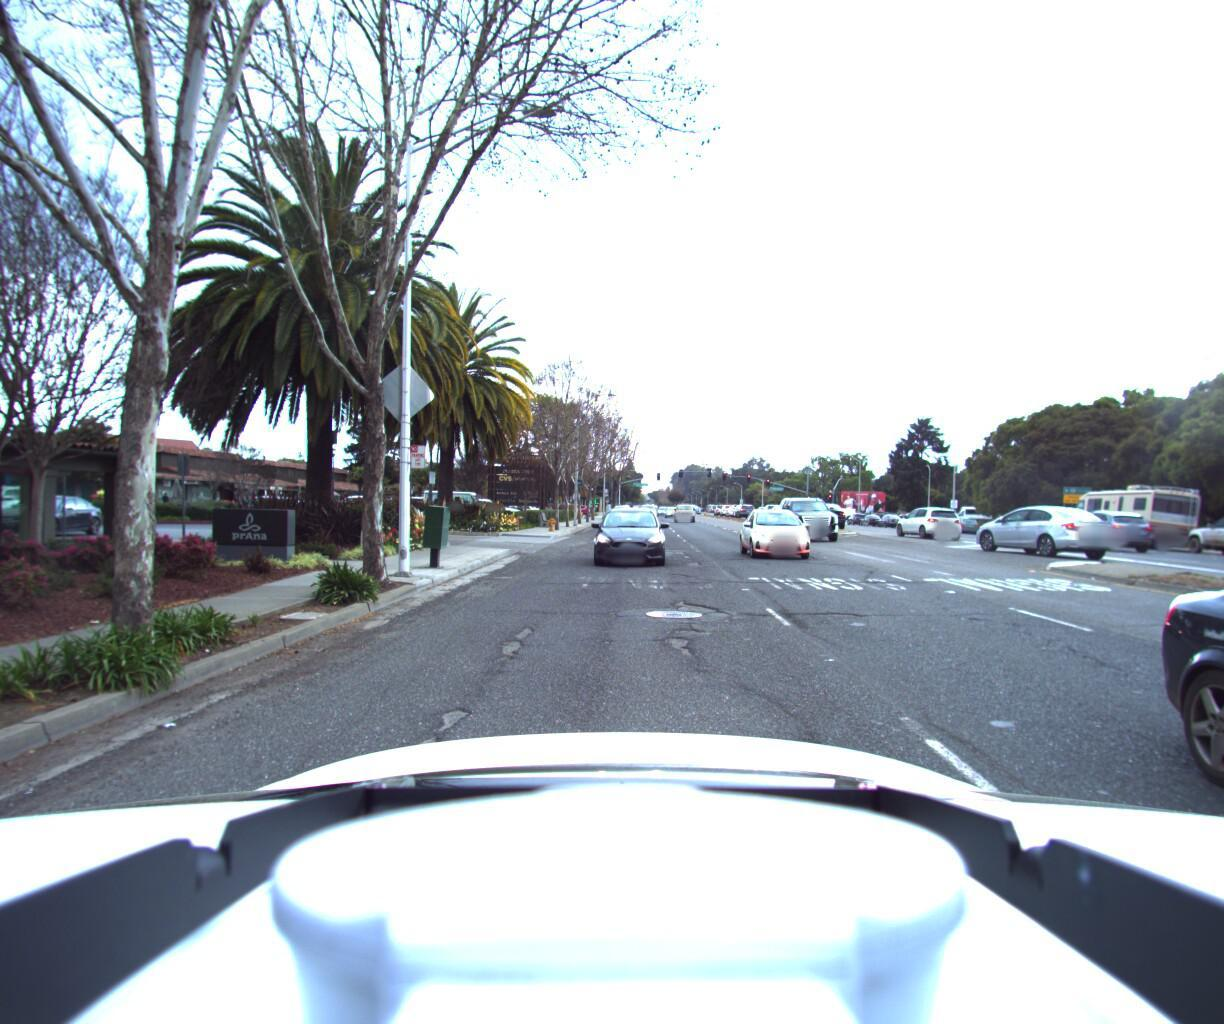car: (968, 504, 1118, 562), (738, 507, 827, 566), (591, 505, 667, 569), (1046, 509, 1144, 551), (783, 495, 852, 544), (420, 490, 500, 531), (883, 505, 962, 539), (1179, 510, 1224, 563), (940, 516, 981, 536), (674, 503, 698, 524)
other_vehicle: (1060, 481, 1203, 555)
